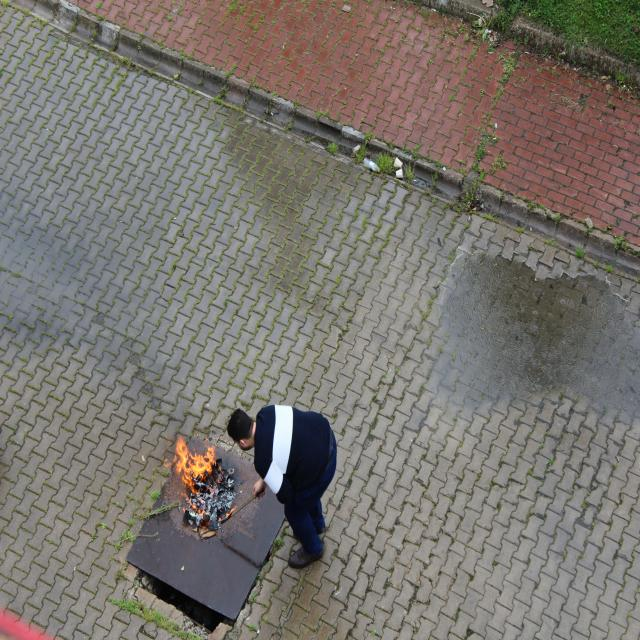fire: (170, 436, 218, 485)
